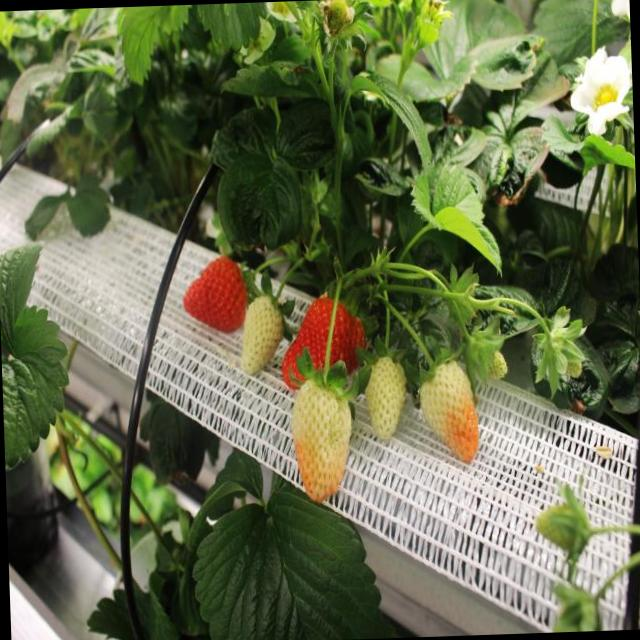ripe: (279, 287, 372, 394), (182, 252, 249, 335)
